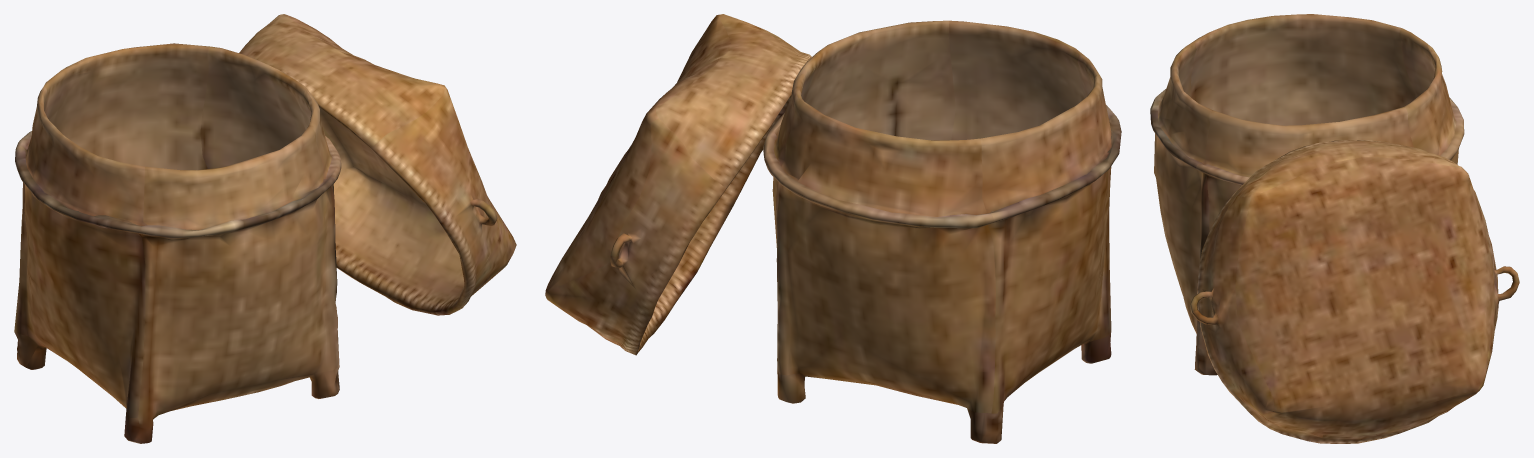
The model's file is wicker_basket_02.glb.
3 views of the same model, side by side, from view 1: azimuth 30°, elevation 25°; view 2: azimuth 150°, elevation 25°; view 3: azimuth 270°, elevation 25° (orthographic). The views are drawn at different scales.
Parts seen in each view (by area): view 1: wicker_basket_02_base; view 2: wicker_basket_02_base; view 3: wicker_basket_02_base.
Boxes of the visible parts, x1,y1,x2,y2 form: wicker_basket_02_base: [14, 14, 516, 443]; wicker_basket_02_base: [545, 14, 1121, 443]; wicker_basket_02_base: [1150, 14, 1519, 443].
Size of the model in its own units: 0.3469 by 0.2004 by 0.2541.
1 material, 1 textured.
